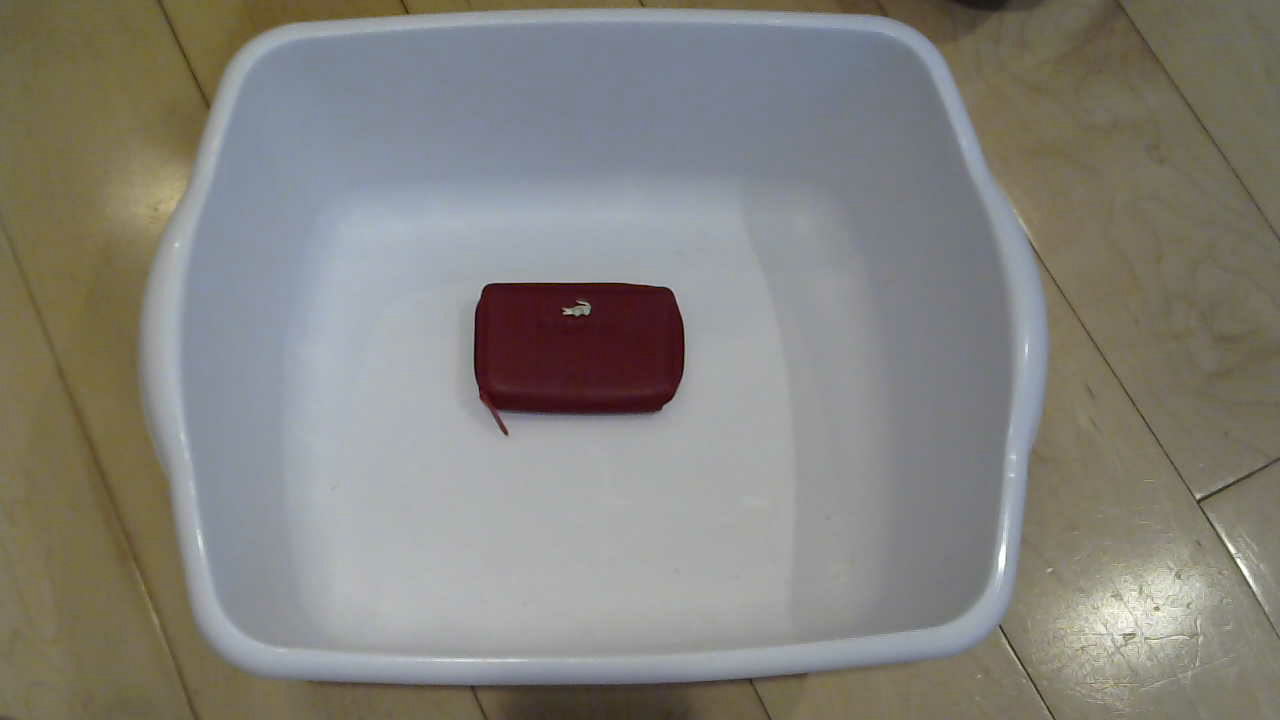wallet: (464, 251, 721, 443)
